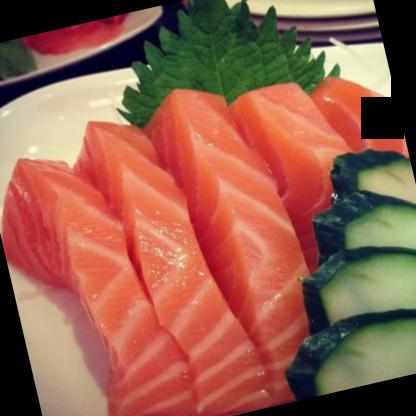salmon: (0, 52, 415, 415)
